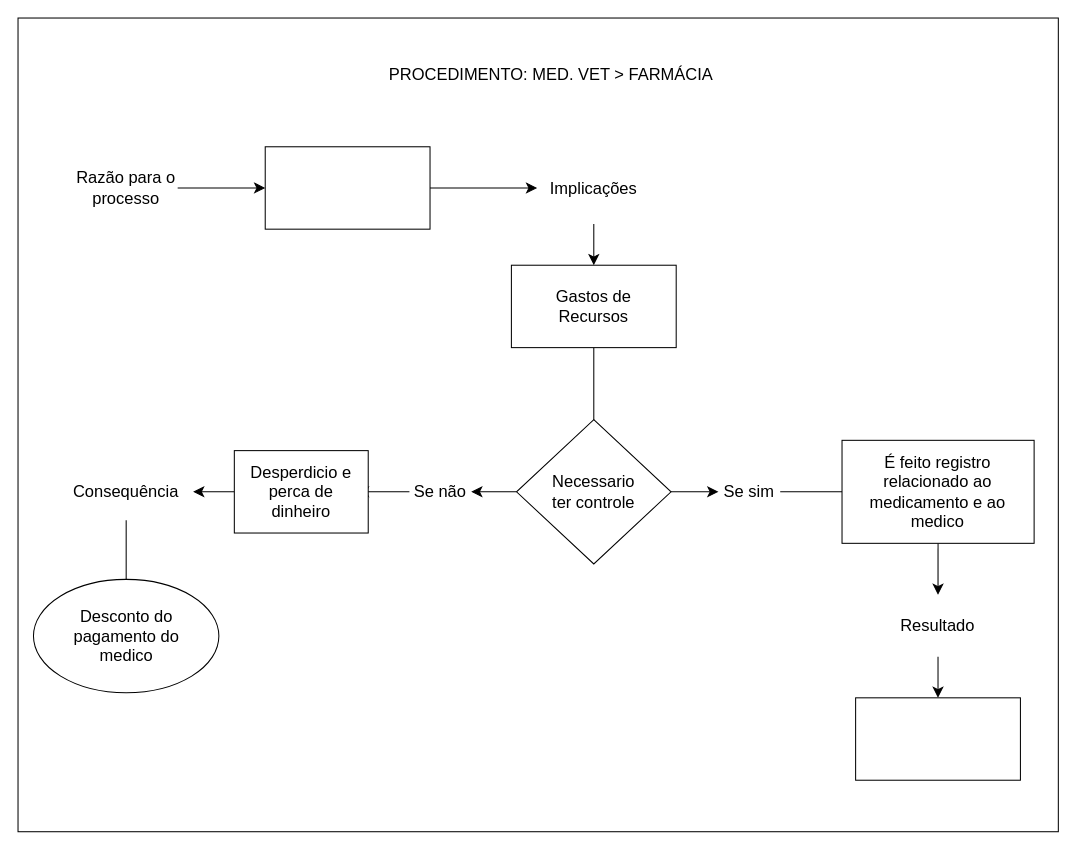
The diagram is 1076 pixels wide and 860 high, and some of its shapes have lost their labels. The centre of each missing label's shape, as x and y in pixels:
Criação de relatórios: (x=937, y=738)
Medicamentos são retirados para serem aplicados: (x=347, y=187)
